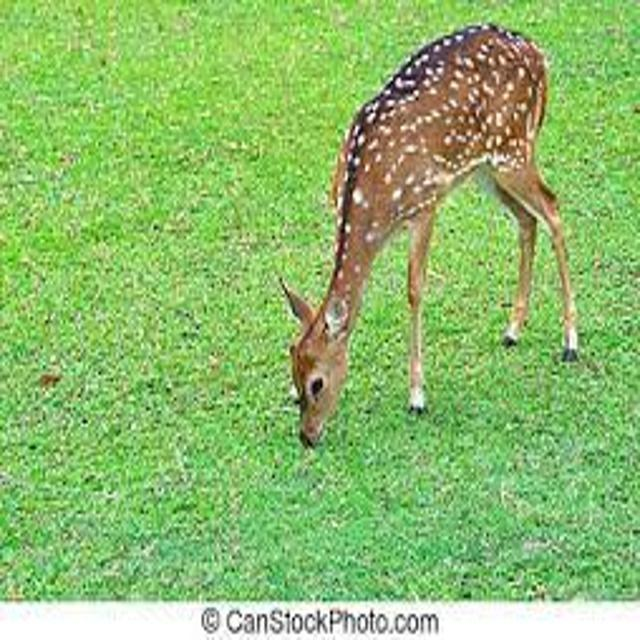Deer: (258, 4, 606, 465)
